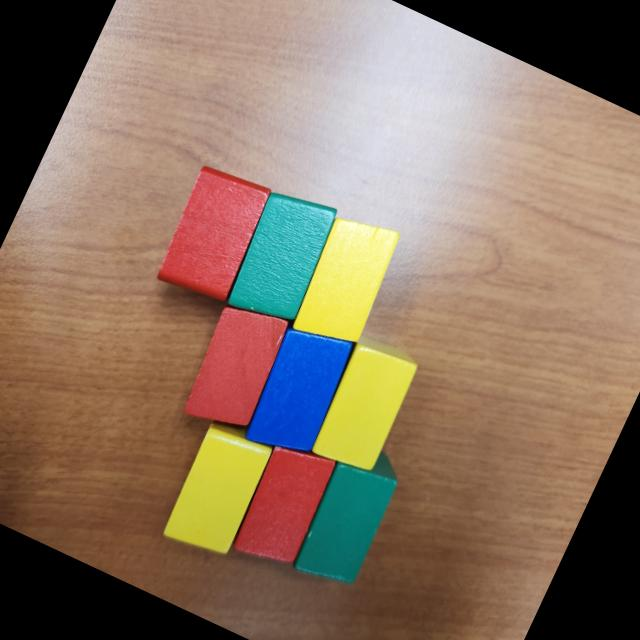blue: (235, 313, 362, 473)
green: (217, 178, 348, 336), (287, 436, 410, 598)
red: (148, 154, 278, 312), (172, 292, 296, 443), (225, 434, 341, 578)
yellow: (286, 205, 410, 357), (306, 331, 428, 482), (158, 418, 278, 565)
